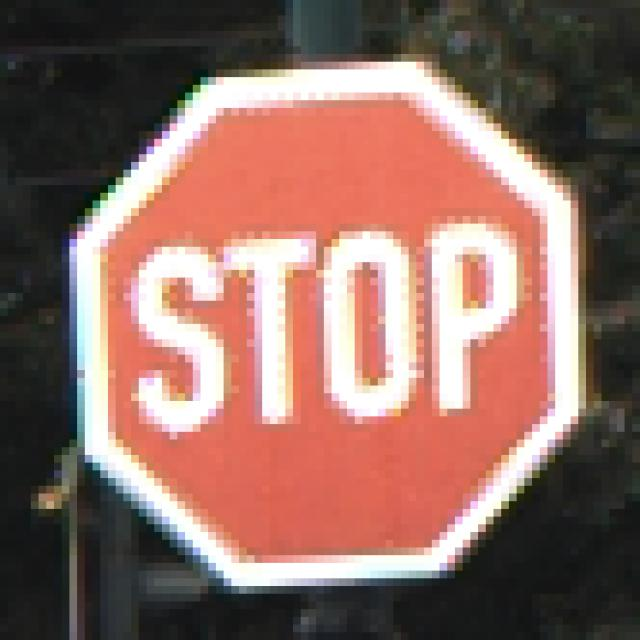STOP: (63, 55, 579, 579)
